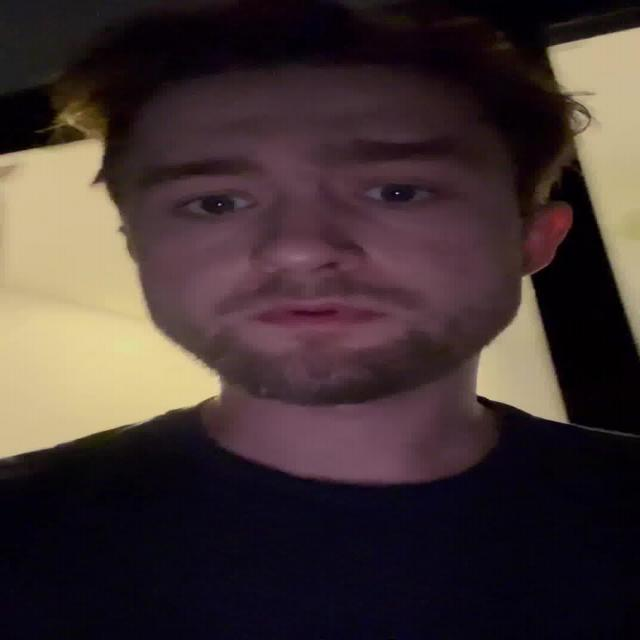earlobe: (520, 201, 574, 279)
